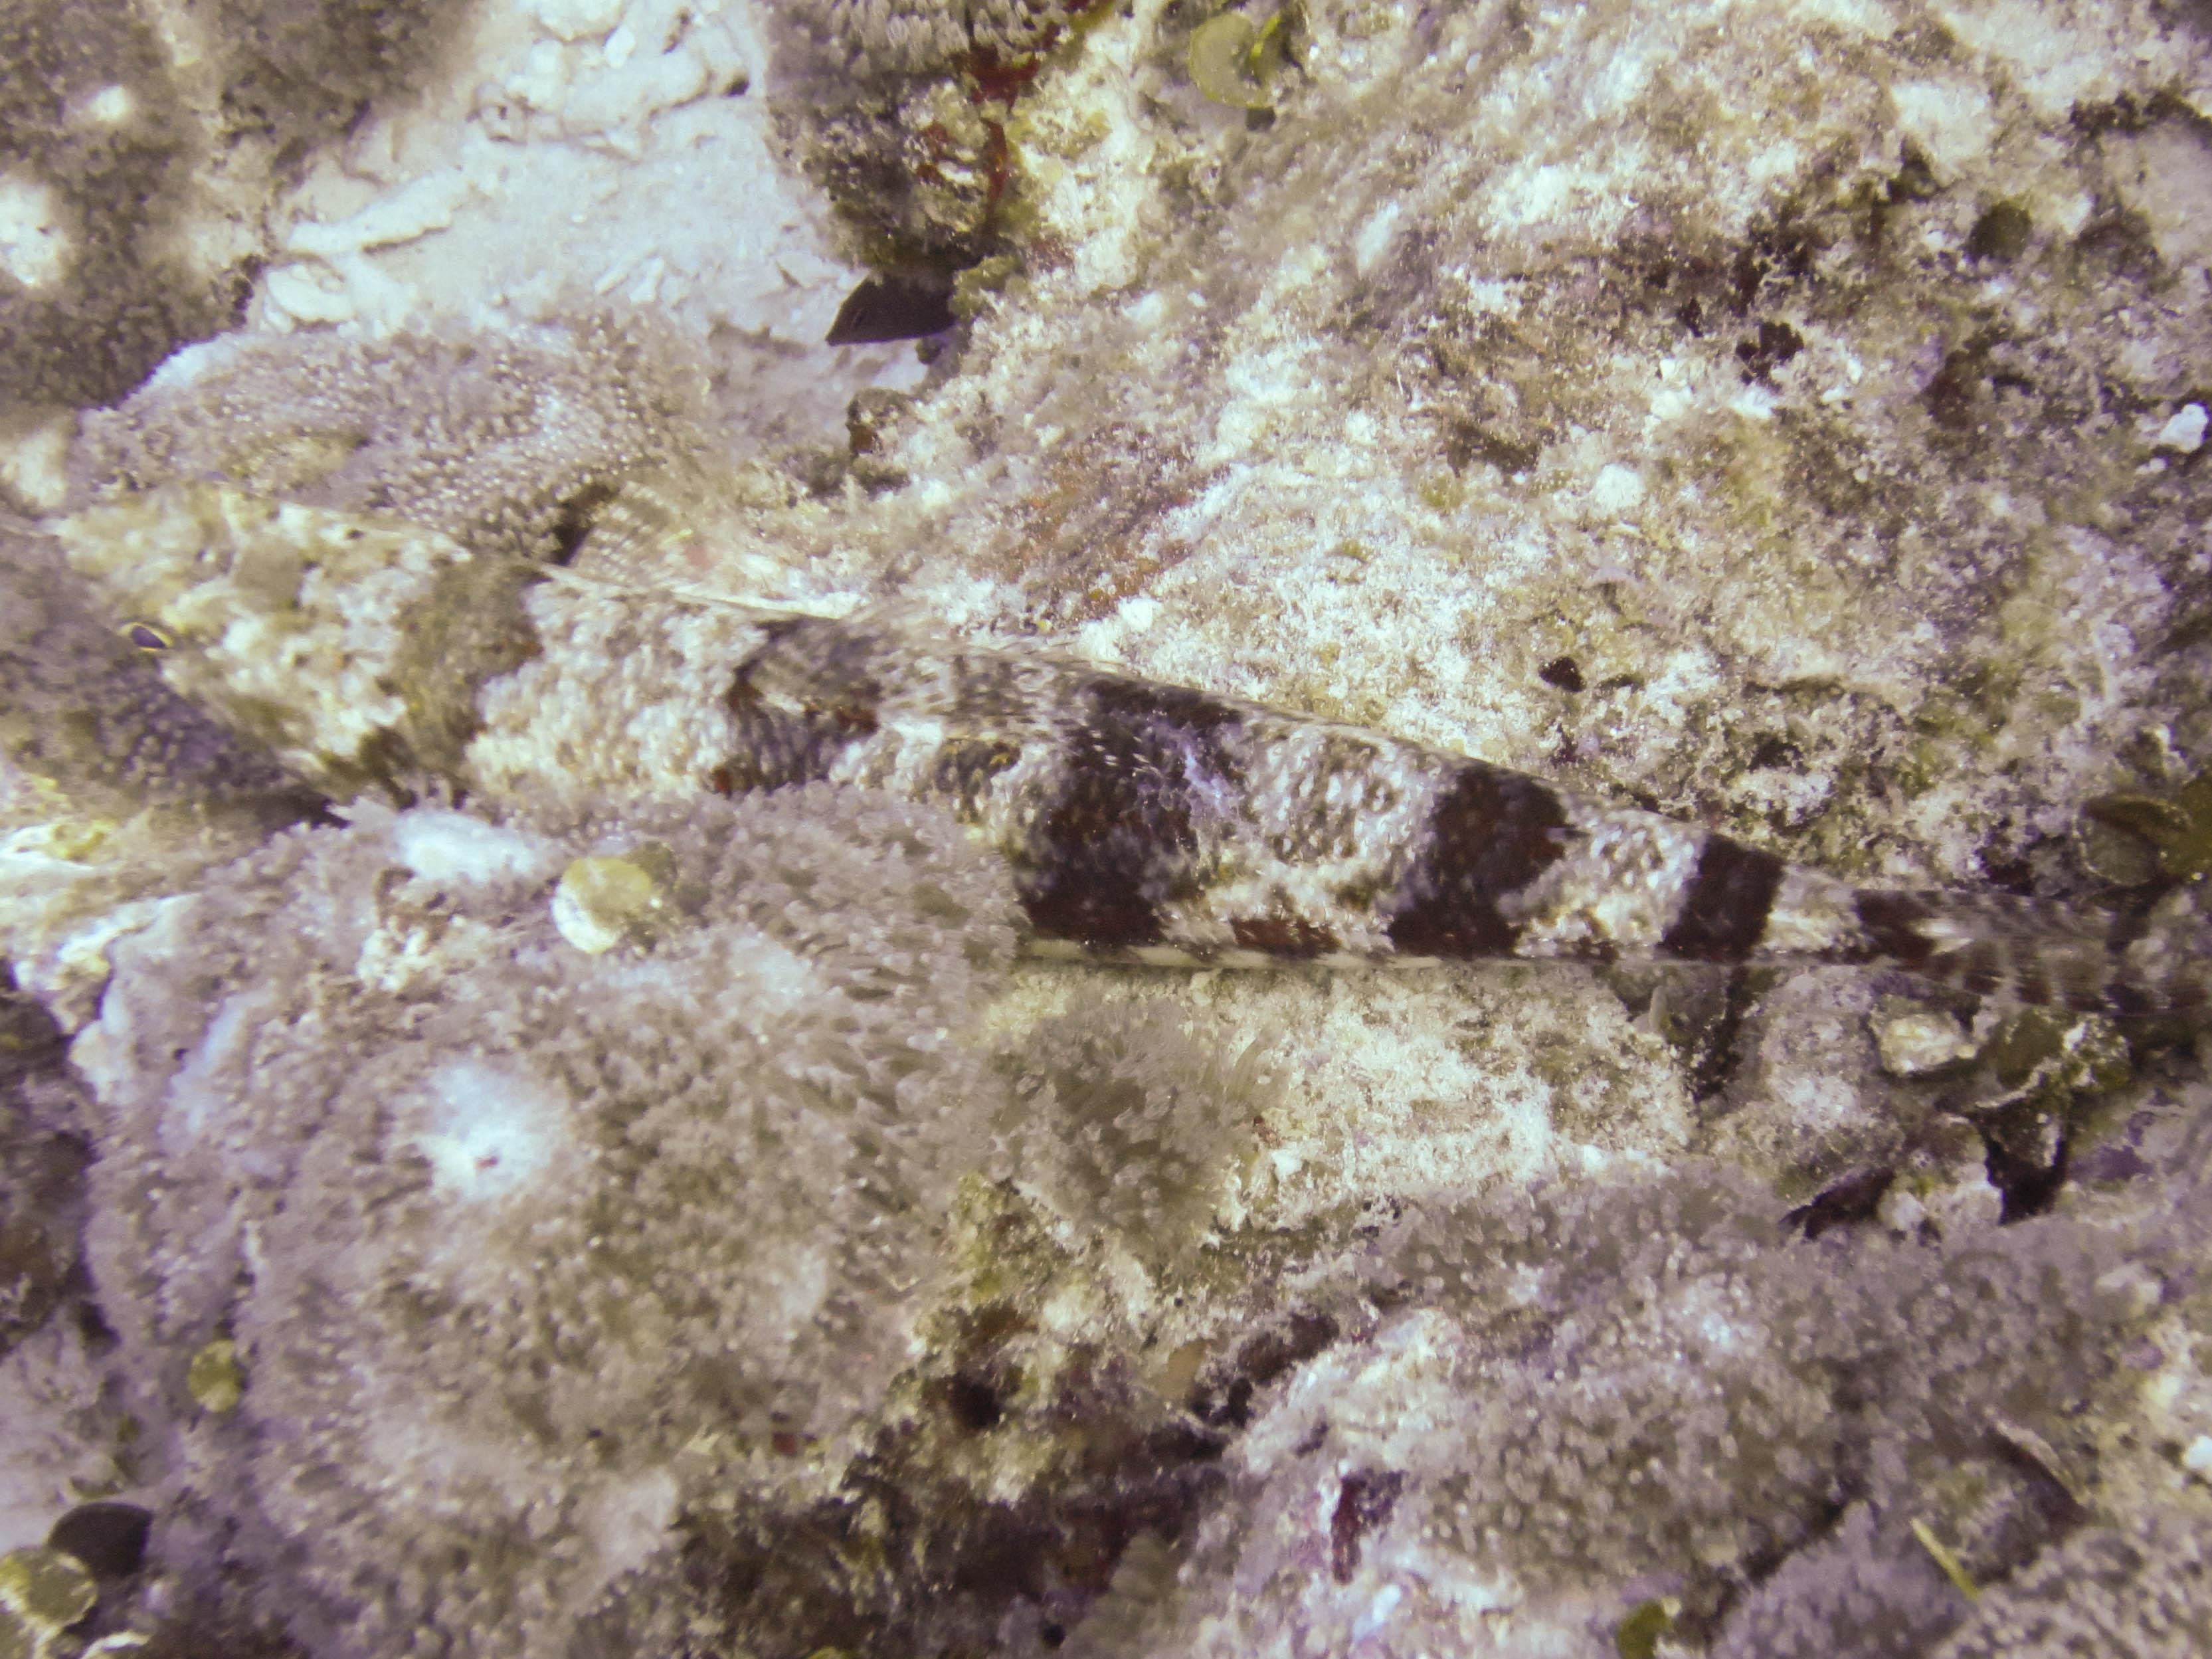Fish: (33, 462, 2212, 1110)
